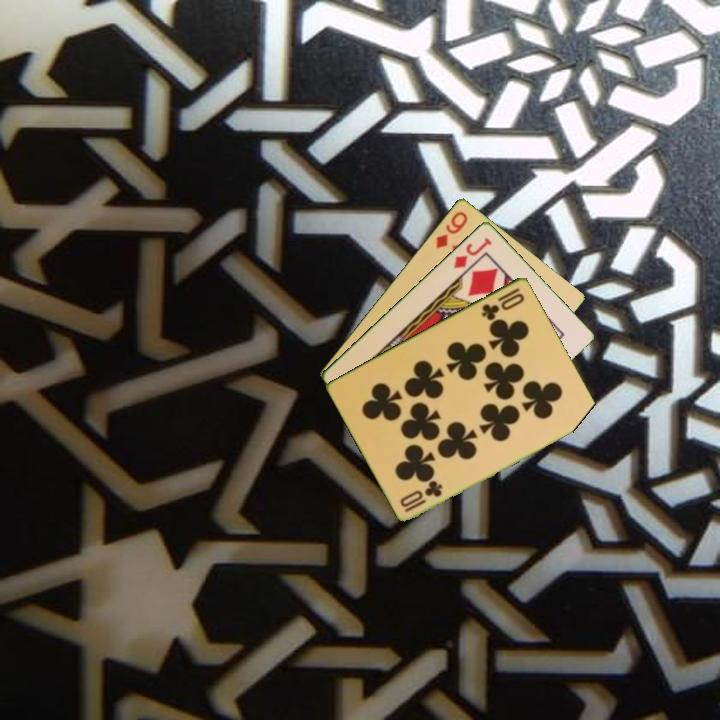10c: (478, 284, 527, 323), (396, 477, 445, 515)
9d: (432, 207, 471, 251)
Jd: (450, 233, 495, 271)
